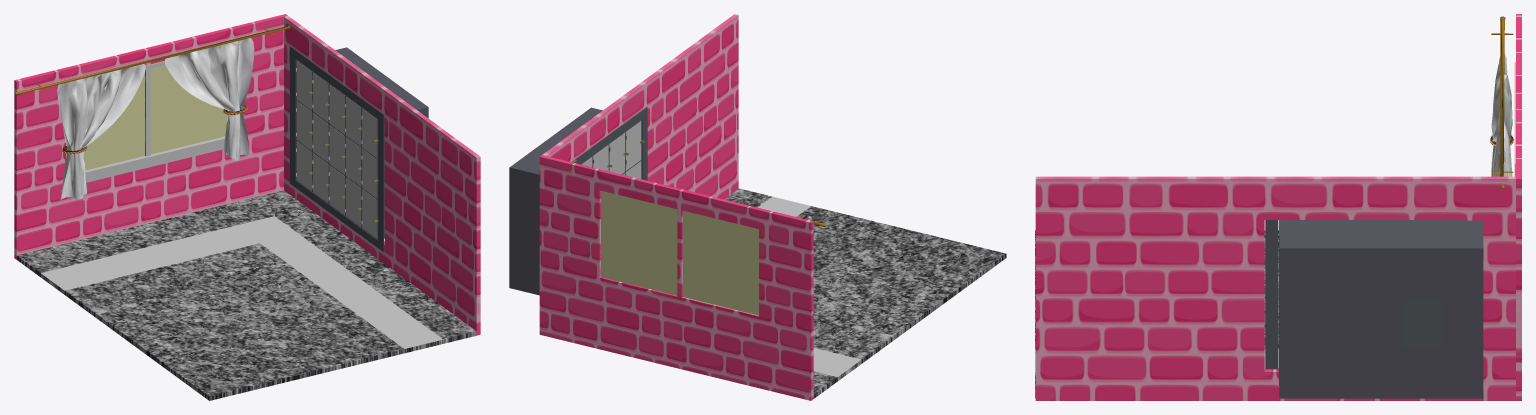
File: colegio ambiente.fbx
The picture shows the model from 3 angles, left to right: view 1: azimuth 30°, elevation 25°; view 2: azimuth 150°, elevation 25°; view 3: azimuth 270°, elevation 25°; orthographic projection. The views are drawn at different scales.
Visible parts, largest first — view 1: piso colegio, pared colegio2, pared colegio, Gordin_right, agujeroLocker, vidrio ventanas, marcoDelLocker, marco ventana, Locker8; view 2: pared colegio2, piso colegio, pared colegio, vidrio ventanas, agujeroLocker, marcoDelLocker; view 3: pared colegio, agujeroLocker, Gordin_right, pared colegio2, Locker8, marcoDelLocker, piso colegio.
Boxes of the visible parts, x1,y1,x2,y2 form: piso colegio: [16, 190, 476, 400]; pared colegio2: [14, 14, 287, 259]; pared colegio: [284, 16, 480, 335]; Gordin_right: [14, 25, 290, 200]; agujeroLocker: [296, 47, 428, 239]; vidrio ventanas: [84, 65, 226, 170]; marcoDelLocker: [290, 46, 384, 251]; marco ventana: [65, 61, 225, 182]; Locker8: [312, 112, 328, 163]; pared colegio2: [539, 155, 813, 400]; piso colegio: [724, 188, 1006, 398]; pared colegio: [542, 14, 738, 199]; vidrio ventanas: [601, 190, 758, 315]; agujeroLocker: [509, 107, 641, 295]; marcoDelLocker: [571, 107, 647, 180]; pared colegio: [1035, 176, 1515, 400]; agujeroLocker: [1278, 220, 1483, 398]; Gordin_right: [1490, 16, 1513, 188]; pared colegio2: [1516, 14, 1521, 400]; Locker8: [1401, 298, 1442, 348]; marcoDelLocker: [1265, 220, 1278, 369]; piso colegio: [1035, 230, 1278, 398].
Size of the model in its own units: 5009 by 2622 by 5215.
